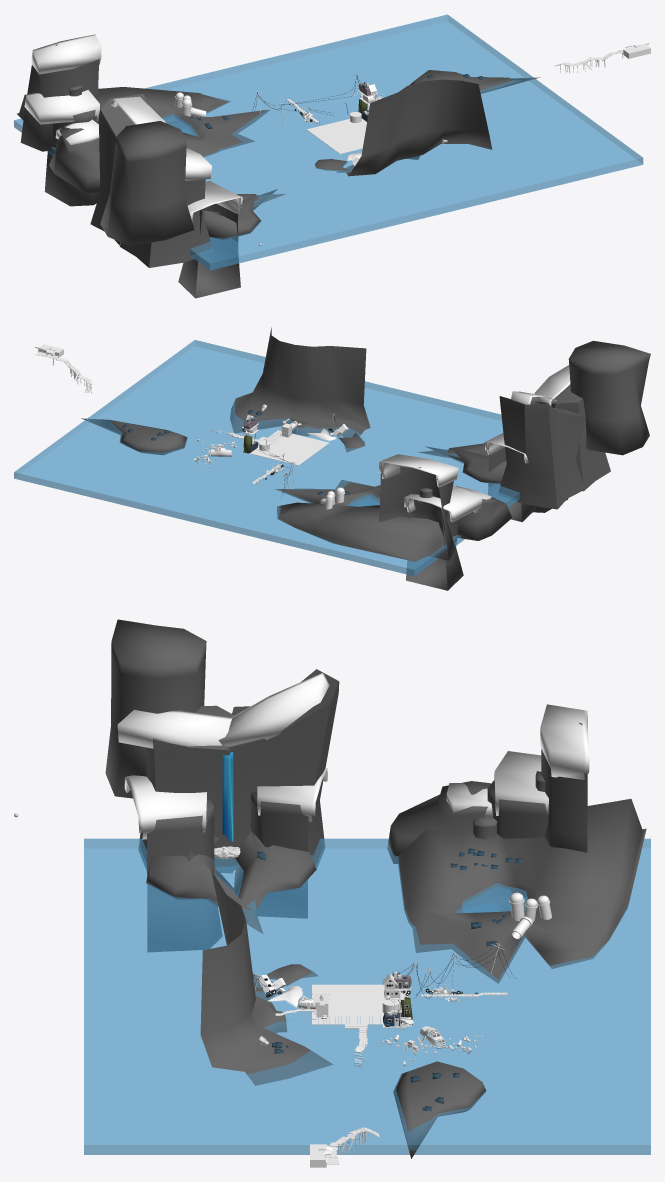
The model's file is mall1.glb.
3 renders of one model, top to bottom at view 1: azimuth 30°, elevation 25°; view 2: azimuth 150°, elevation 25°; view 3: azimuth 270°, elevation 25°, orthographic. The views are drawn at different scales.
Visible parts, largest first — view 1: Cube, Cube.138, Cube.140, Cube.710, Cube.2381, Cube.136, Cube.952, Cube.866, Cube.137, Cube.2374, Cube.2378, Cube.006 (+7 smaller); view 2: Cube, Cube.140, Cube.137, Cube.710, Cube.138, Cube.952, Cube.006, Cube.048, Cube.136, Cube.866, Cube.2374, Cube.197 (+5 smaller); view 3: Cube, Cube.710, Cube.140, Cube.138, Cube.137, Cube.2381, Cube.136, Cube.048, Cube.955, Cube.2383, Cube.2377, Cube.2376 (+12 smaller).
Boxes of the visible parts, box(x1,y1,x2,y2) form: Cube: box(14, 14, 643, 270); Cube.138: box(100, 121, 194, 245); Cube.140: box(336, 79, 492, 176); Cube.710: box(17, 87, 269, 156); Cube.2381: box(178, 199, 240, 298); Cube.136: box(119, 179, 213, 267); Cube.952: box(20, 44, 99, 151); Cube.866: box(49, 123, 100, 194); Cube.137: box(90, 94, 148, 245); Cube.2374: box(31, 34, 101, 74); Cube.2378: box(24, 90, 99, 124); Cube.006: box(44, 105, 101, 206); Cube: box(14, 340, 519, 576); Cube.140: box(230, 327, 370, 437); Cube.137: box(498, 396, 585, 509); Cube.710: box(275, 480, 455, 561); Cube.138: box(568, 340, 650, 455); Cube.952: box(378, 466, 455, 560); Cube.006: box(406, 499, 463, 590); Cube.048: box(81, 418, 187, 455); Cube.136: box(534, 385, 610, 491); Cube.866: box(457, 497, 511, 540); Cube.2374: box(378, 454, 458, 487); Cube.197: box(249, 434, 329, 465); Cube: box(84, 838, 650, 1154); Cube.710: box(397, 799, 646, 983); Cube.140: box(200, 870, 332, 1085); Cube.138: box(105, 619, 206, 798); Cube.137: box(217, 669, 339, 870); Cube.2381: box(147, 799, 222, 951); Cube.136: box(138, 705, 234, 872); Cube.048: box(393, 1061, 486, 1158); Cube.955: box(187, 830, 316, 923); Cube.2383: box(250, 792, 308, 918); Cube.2377: box(218, 673, 329, 746); Cube.2376: box(117, 709, 232, 748).
Size of the model in its own units: 84.12 by 22.94 by 53.46.
Materials: 51 (1 with a texture image).
